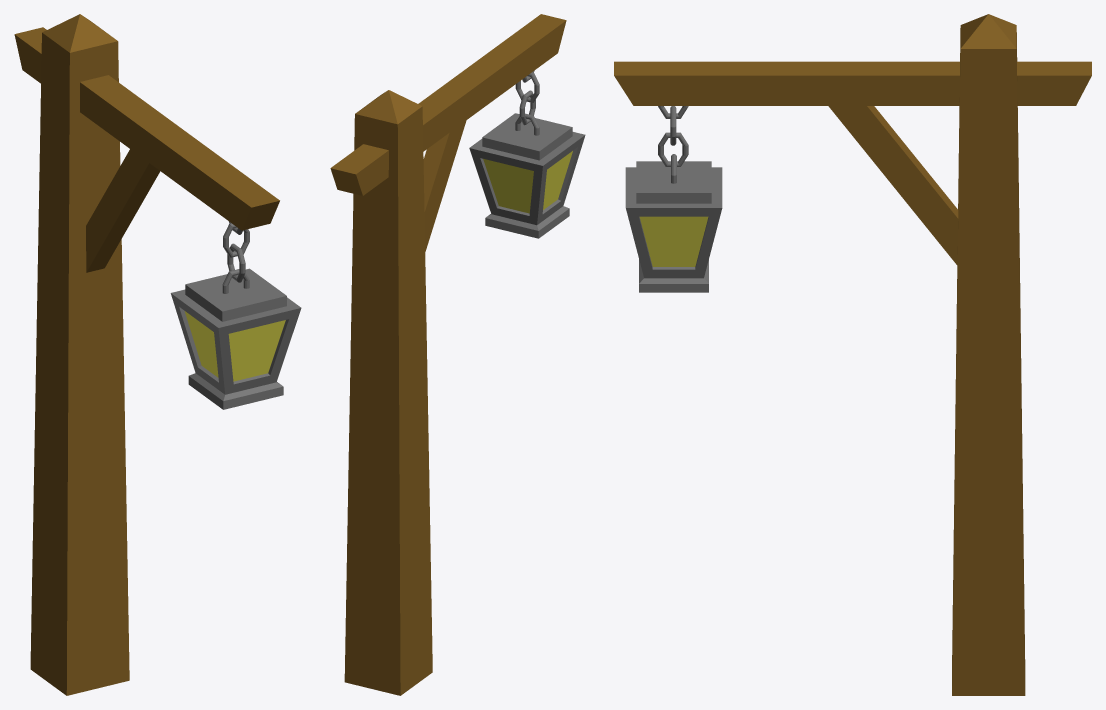
The model's file is Lanternpost.fbx.
The picture shows the model from 3 angles, left to right: view 1: azimuth 30°, elevation 25°; view 2: azimuth 150°, elevation 25°; view 3: azimuth 270°, elevation 25°; orthographic projection. The views are drawn at different scales.
Visible parts, largest first — view 1: Lanternpost; view 2: Lanternpost; view 3: Lanternpost.
Part boxes in pixels (left/top/right/bottom): Lanternpost: left=14, top=14, right=301, bottom=695; Lanternpost: left=330, top=14, right=585, bottom=695; Lanternpost: left=614, top=14, right=1091, bottom=695.
Bounding box in the file's own units: 615 × 4678 × 3041.
